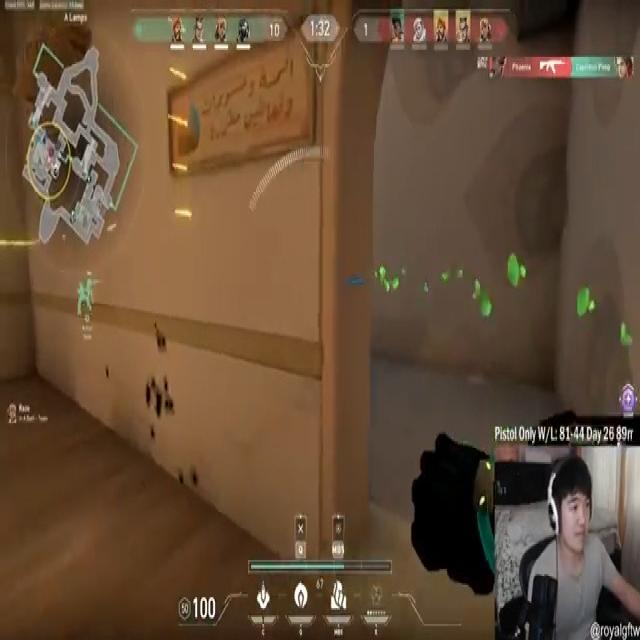ally behind wall: (84, 277, 100, 316), (78, 281, 90, 318)
